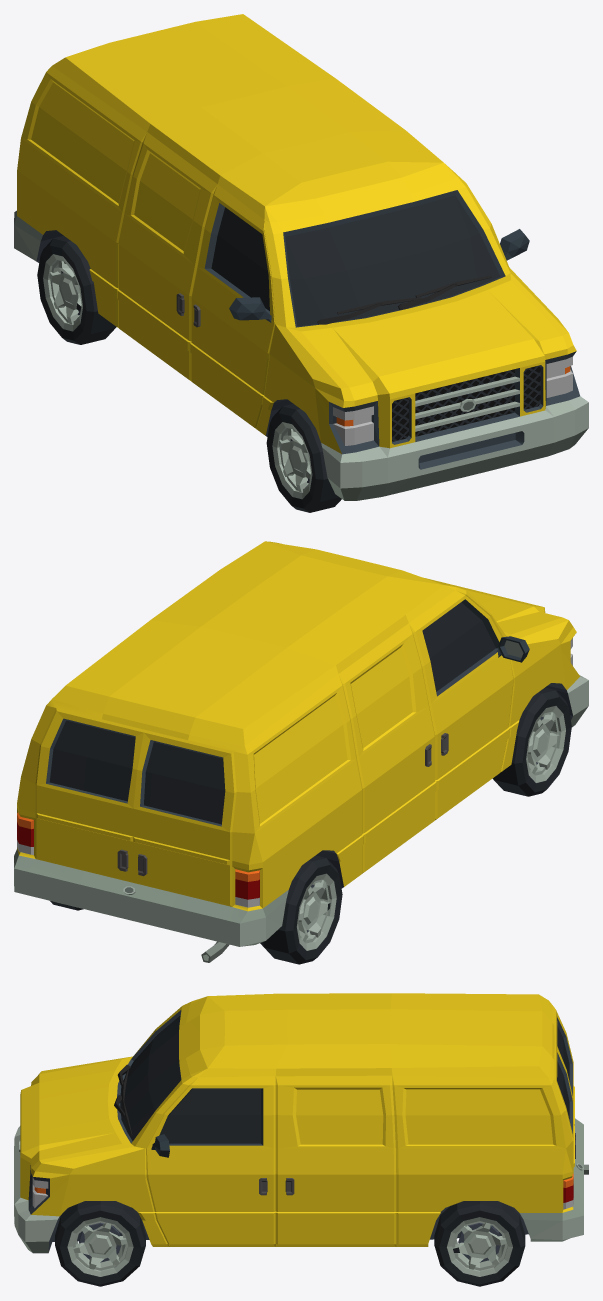
The model's file is Van_Yellow.fbx.
3 views of the same model, one above another, from view 1: azimuth 30°, elevation 25°; view 2: azimuth 150°, elevation 25°; view 3: azimuth 270°, elevation 25° (orthographic). The views are drawn at different scales.
Parts seen in each view (by area): view 1: SM_Van_5, SM_Veh_Car_Van_Wheel_rr.004, SM_Veh_Car_Van_Wheel_fr.004; view 2: SM_Van_5, SM_Veh_Car_Van_Wheel_rr.004, SM_Veh_Car_Van_Wheel_fr.004; view 3: SM_Van_5, SM_Veh_Car_Van_Wheel_rl.004, SM_Veh_Car_Van_Wheel_fl.004.
Part boxes in pixels (<box>): SM_Van_5: <box>14,14,588,500</box>; SM_Veh_Car_Van_Wheel_rr.004: <box>37,236,116,344</box>; SM_Veh_Car_Van_Wheel_fr.004: <box>266,404,341,512</box>; SM_Van_5: <box>14,541,588,962</box>; SM_Veh_Car_Van_Wheel_rr.004: <box>260,855,342,964</box>; SM_Veh_Car_Van_Wheel_fr.004: <box>492,687,571,796</box>; SM_Van_5: <box>14,993,588,1253</box>; SM_Veh_Car_Van_Wheel_rl.004: <box>434,1201,525,1286</box>; SM_Veh_Car_Van_Wheel_fl.004: <box>55,1201,145,1286</box>.
Bounding box in the file's own units: 2.83 × 2.32 × 5.75.
